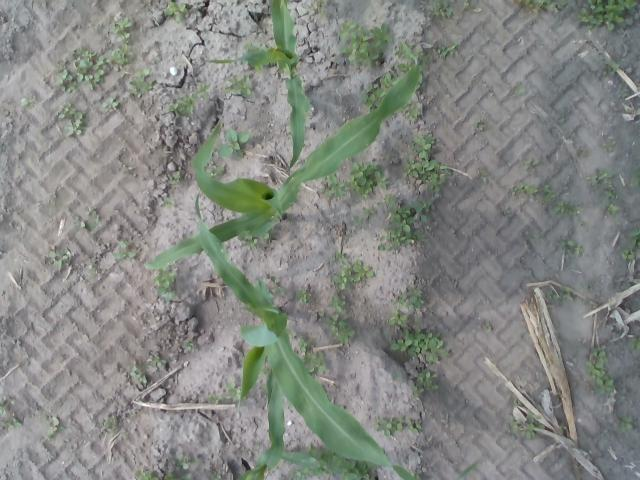Maize: (194, 189, 480, 480), (144, 40, 422, 272), (208, 0, 310, 172), (236, 369, 330, 480)
Weeds: (56, 42, 130, 92), (376, 193, 432, 254), (388, 310, 453, 362), (402, 132, 450, 194), (338, 20, 392, 68), (577, 0, 639, 32), (330, 251, 374, 291), (349, 159, 390, 198), (166, 84, 210, 116), (506, 413, 548, 445), (318, 312, 356, 346), (587, 348, 613, 394), (376, 415, 420, 438), (56, 102, 85, 136), (128, 68, 158, 100), (309, 447, 343, 475), (412, 369, 442, 399), (218, 129, 248, 158), (392, 284, 422, 310), (512, 0, 567, 14), (153, 269, 175, 302), (68, 207, 100, 229), (396, 40, 426, 62), (547, 284, 574, 308), (224, 73, 252, 96), (342, 460, 374, 480), (426, 0, 454, 21), (587, 167, 614, 188), (362, 83, 382, 111), (302, 351, 326, 374), (43, 416, 66, 440), (507, 180, 540, 196), (163, 0, 187, 22), (110, 16, 132, 40), (49, 245, 71, 269), (556, 237, 583, 256), (322, 175, 344, 197), (113, 241, 136, 262), (554, 200, 584, 216), (176, 452, 198, 470), (540, 183, 558, 205), (326, 295, 346, 314), (146, 354, 166, 372), (433, 44, 458, 58), (602, 58, 620, 77), (99, 416, 118, 434), (404, 100, 421, 120), (132, 468, 160, 480), (268, 276, 286, 294), (130, 365, 148, 383), (380, 73, 400, 89), (101, 98, 121, 114), (238, 235, 258, 251), (625, 228, 640, 249), (286, 469, 314, 480), (617, 416, 634, 434), (294, 287, 312, 304), (225, 380, 239, 401), (207, 162, 224, 178), (306, 0, 326, 13), (168, 170, 184, 186), (162, 472, 192, 480), (524, 228, 538, 244), (298, 338, 314, 352), (349, 214, 364, 228), (86, 260, 100, 274), (472, 120, 484, 136), (602, 203, 618, 215), (0, 395, 10, 414), (602, 139, 616, 152), (524, 159, 538, 172), (628, 335, 640, 350), (160, 198, 175, 210), (631, 167, 640, 186), (620, 248, 634, 260), (205, 392, 219, 404), (362, 206, 378, 216), (9, 417, 21, 430), (389, 370, 402, 382), (207, 469, 221, 480), (398, 61, 410, 73), (242, 43, 260, 51), (603, 188, 616, 199), (478, 169, 488, 183), (481, 320, 493, 331), (514, 86, 524, 97), (578, 145, 586, 158), (502, 205, 511, 216), (583, 282, 594, 291), (20, 98, 30, 107), (512, 400, 522, 408), (184, 339, 192, 349), (462, 0, 468, 7), (255, 66, 262, 72), (558, 118, 564, 122)
